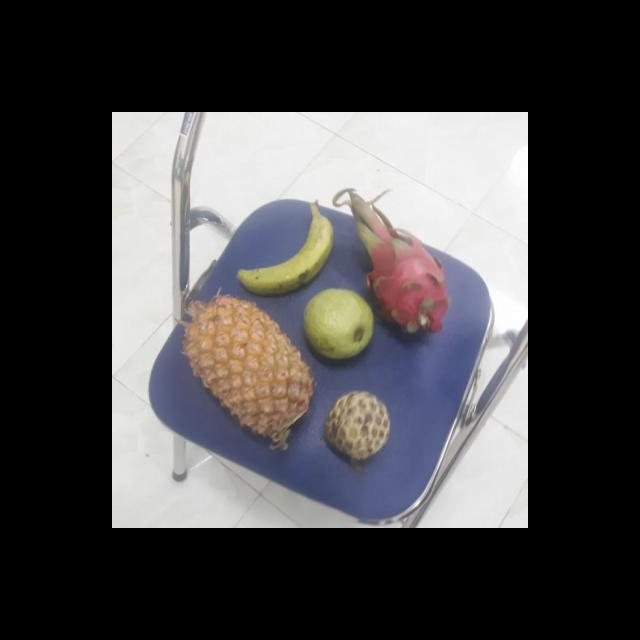Sakya fruit: (318, 392, 388, 462)
banana: (235, 206, 331, 296)
guava: (300, 287, 375, 358)
pineapple: (180, 296, 308, 444)
pitaya: (345, 212, 447, 334)
